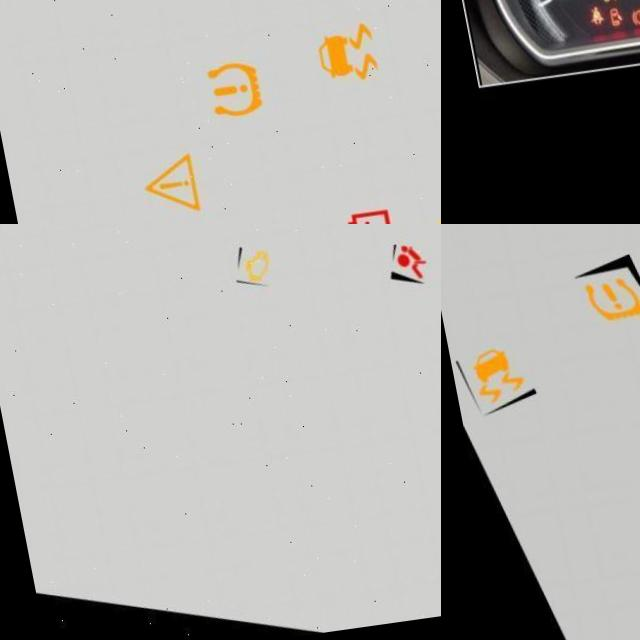Seat Belt: (573, 9, 588, 30)
